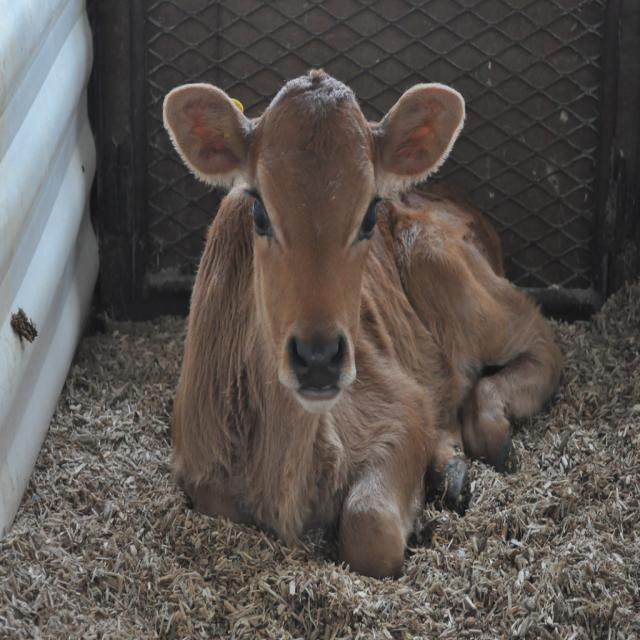Cattle: (159, 71, 564, 576)
